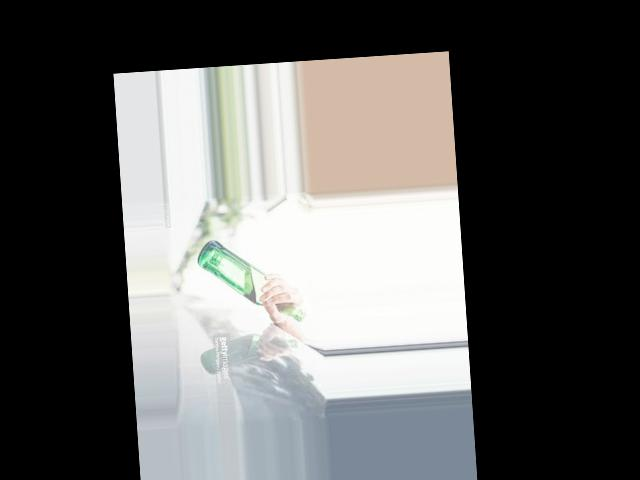beer: (195, 235, 305, 329)
